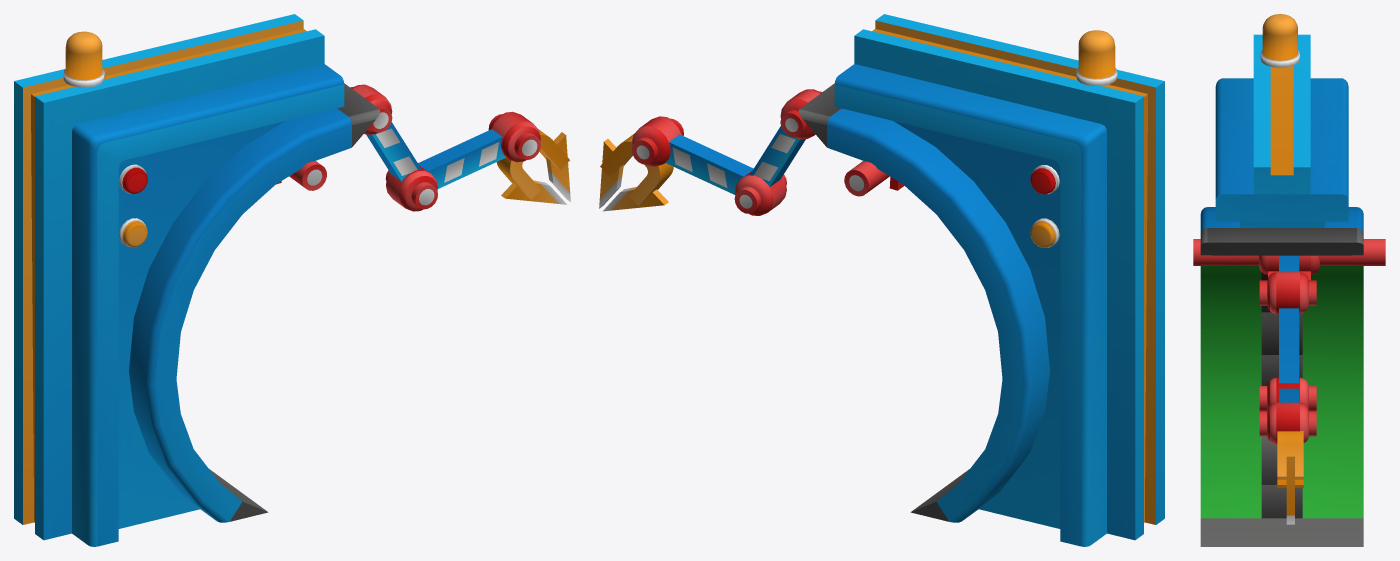
File: baby_boss_yeni_robot_kol1.fbx
3 views of the same model, side by side, from view 1: azimuth 30°, elevation 25°; view 2: azimuth 150°, elevation 25°; view 3: azimuth 270°, elevation 25° (orthographic). The views are drawn at different scales.
Parts seen in each view (by area): view 1: baby_boss_yeni_robot_kol, baby_boss_yeni_robot_kol_kutu, baby_boss_yeni_robot_kol_kol2.001, baby_boss_yeni_robot_kol_yuvarlak4, baby_boss_yeni_robot_kol_yuvarlak3, baby_boss_yeni_robot_kol_kol2, baby_boss_yeni_robot_kol_kol3, baby_boss_yeni_robot_kol_yuvarlak2, baby_boss_yeni_robot_kol_kıskac1, baby_boss_yeni_robot_kol_kıskac2, baby_boss_yeni_robot_kol_yuvarlak1; view 2: baby_boss_yeni_robot_kol, baby_boss_yeni_robot_kol_kutu, baby_boss_yeni_robot_kol_kol2.001, baby_boss_yeni_robot_kol_yuvarlak4, baby_boss_yeni_robot_kol_yuvarlak3, baby_boss_yeni_robot_kol_kol2, baby_boss_yeni_robot_kol_kol3, baby_boss_yeni_robot_kol_yuvarlak2, baby_boss_yeni_robot_kol_yuvarlak1, baby_boss_yeni_robot_kol_kıskac1, baby_boss_yeni_robot_kol_kıskac2; view 3: baby_boss_yeni_robot_kol, baby_boss_yeni_robot_kol_yuvarlak1, baby_boss_yeni_robot_kol_yuvarlak2, baby_boss_yeni_robot_kol_kutu, baby_boss_yeni_robot_kol_yuvarlak4, baby_boss_yeni_robot_kol_kol2, baby_boss_yeni_robot_kol_kol3, baby_boss_yeni_robot_kol_yuvarlak3, baby_boss_yeni_robot_kol_kıskac1, baby_boss_yeni_robot_kol_kol1, baby_boss_yeni_robot_kol_kol2.001.
Part boxes in pixels (x1,y1,x2,y2): baby_boss_yeni_robot_kol: [14, 14, 380, 546]; baby_boss_yeni_robot_kol_kutu: [63, 31, 147, 247]; baby_boss_yeni_robot_kol_kol2.001: [418, 129, 505, 188]; baby_boss_yeni_robot_kol_yuvarlak4: [488, 111, 540, 162]; baby_boss_yeni_robot_kol_yuvarlak3: [385, 166, 437, 211]; baby_boss_yeni_robot_kol_kol2: [366, 122, 421, 181]; baby_boss_yeni_robot_kol_kol3: [496, 129, 569, 199]; baby_boss_yeni_robot_kol_yuvarlak2: [350, 84, 392, 134]; baby_boss_yeni_robot_kol_kıskac1: [546, 132, 570, 201]; baby_boss_yeni_robot_kol_kıskac2: [501, 180, 567, 204]; baby_boss_yeni_robot_kol_yuvarlak1: [276, 161, 326, 190]; baby_boss_yeni_robot_kol: [798, 14, 1164, 546]; baby_boss_yeni_robot_kol_kutu: [1030, 30, 1117, 247]; baby_boss_yeni_robot_kol_kol2.001: [665, 134, 753, 194]; baby_boss_yeni_robot_kol_yuvarlak4: [631, 116, 683, 166]; baby_boss_yeni_robot_kol_yuvarlak3: [734, 171, 786, 215]; baby_boss_yeni_robot_kol_kol2: [750, 126, 805, 186]; baby_boss_yeni_robot_kol_kol3: [600, 134, 673, 206]; baby_boss_yeni_robot_kol_yuvarlak2: [780, 89, 821, 139]; baby_boss_yeni_robot_kol_yuvarlak1: [844, 161, 904, 196]; baby_boss_yeni_robot_kol_kıskac1: [599, 139, 623, 208]; baby_boss_yeni_robot_kol_kıskac2: [603, 187, 668, 211]; baby_boss_yeni_robot_kol: [1200, 34, 1363, 546]; baby_boss_yeni_robot_kol_yuvarlak1: [1193, 239, 1385, 280]; baby_boss_yeni_robot_kol_yuvarlak2: [1259, 272, 1316, 313]; baby_boss_yeni_robot_kol_kutu: [1260, 14, 1299, 67]; baby_boss_yeni_robot_kol_yuvarlak4: [1259, 402, 1316, 444]; baby_boss_yeni_robot_kol_kol2: [1279, 308, 1299, 383]; baby_boss_yeni_robot_kol_kol3: [1277, 431, 1303, 487]; baby_boss_yeni_robot_kol_yuvarlak3: [1259, 377, 1316, 410]; baby_boss_yeni_robot_kol_kıskac1: [1286, 456, 1294, 524]; baby_boss_yeni_robot_kol_kol1: [1279, 255, 1299, 271]; baby_boss_yeni_robot_kol_kol2.001: [1279, 388, 1299, 402].
Size of the model in its own units: 1.83 by 1.55 by 0.5839.
